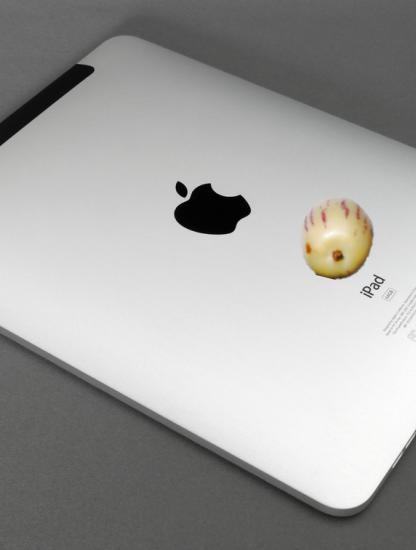Pepino: (296, 197, 379, 280)
